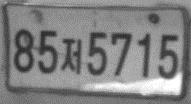1: (136, 32, 152, 79)
5: (156, 33, 179, 79), (87, 29, 107, 76), (37, 29, 57, 74)
7: (109, 31, 133, 77)
8: (14, 29, 34, 72)
저: (60, 37, 83, 74)
